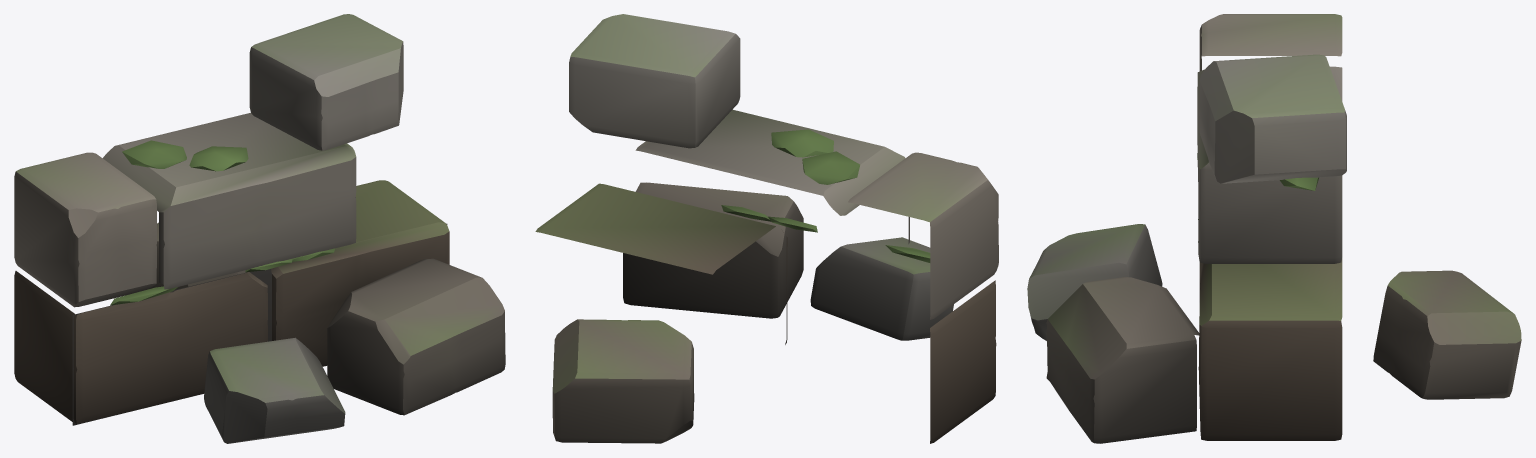
File: ruins-wall-c-v1.glb
3 renders of one model, left to right at view 1: azimuth 30°, elevation 25°; view 2: azimuth 150°, elevation 25°; view 3: azimuth 270°, elevation 25°, orthographic. The views are drawn at different scales.
Visible parts, largest first — view 1: 0_ruins_wall_c; view 2: 0_ruins_wall_c; view 3: 0_ruins_wall_c.
Part boxes in pixels (x1=…): 0_ruins_wall_c: x1=14, y1=14, x2=505, y2=443; 0_ruins_wall_c: x1=535, y1=14, x2=998, y2=443; 0_ruins_wall_c: x1=1027, y1=14, x2=1521, y2=443.
Bounding box in the file's own units: 2.01 × 1.48 × 2.07.
